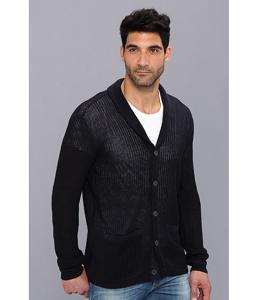C_cardigan sweater: (50, 82, 211, 283)
